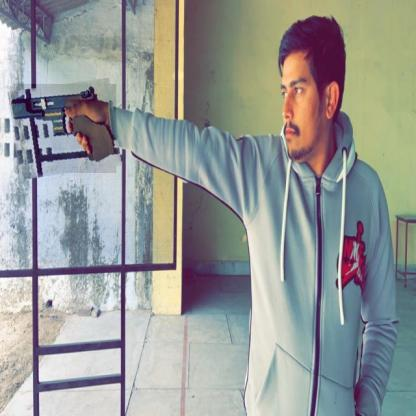handgun: (11, 81, 119, 176)
